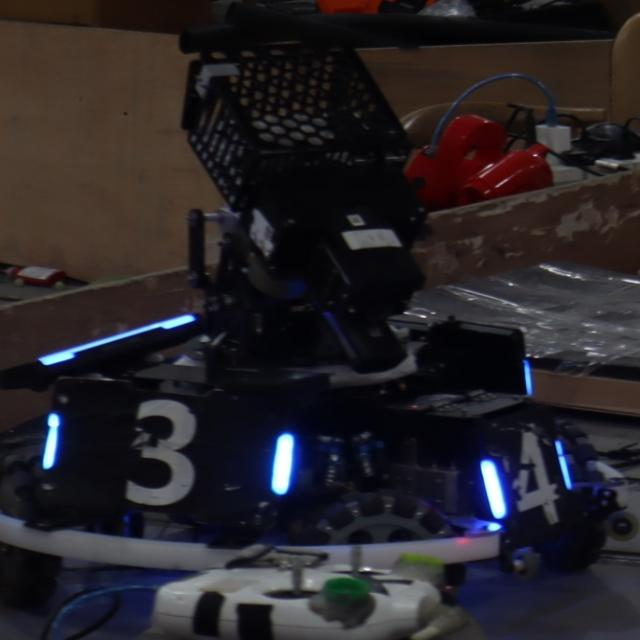B3: (38, 391, 294, 506)
B4: (472, 428, 581, 527)
